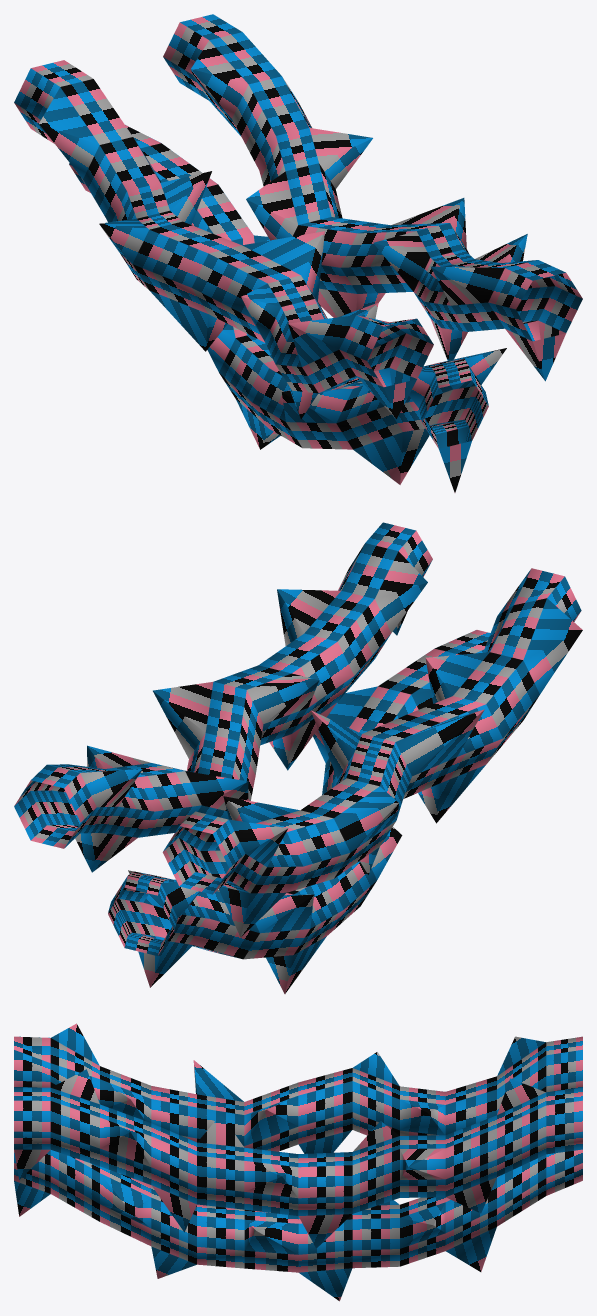
Rendered from SpikeVines.fbx.
The picture shows the model from 3 angles, top to bottom: view 1: azimuth 30°, elevation 25°; view 2: azimuth 150°, elevation 25°; view 3: azimuth 270°, elevation 25°; orthographic projection. The views are drawn at different scales.
Parts seen in each view (by area): view 1: pCylinder6; view 2: pCylinder6; view 3: pCylinder6.
Boxes of the visible parts, x1=… form: pCylinder6: x1=14, y1=14, x2=582, y2=492; pCylinder6: x1=14, y1=522, x2=582, y2=993; pCylinder6: x1=14, y1=1023, x2=582, y2=1301.
Bounding box in the file's own units: 38.54 × 36.06 × 76.93.
1 material, 1 textured.
